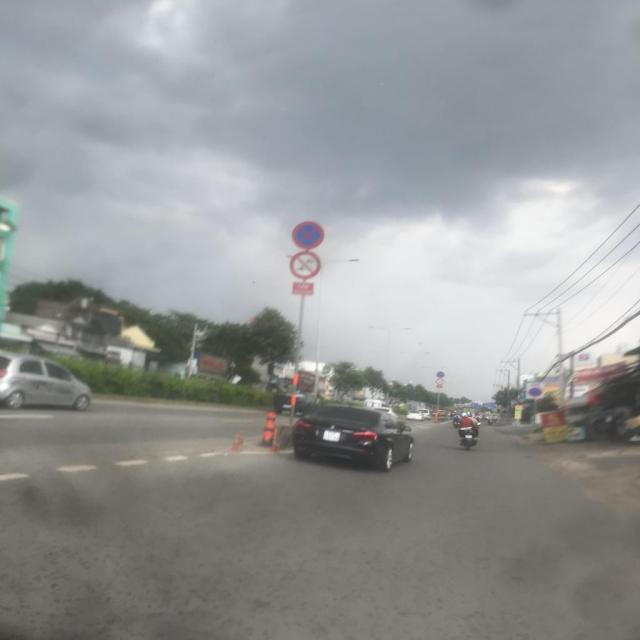cam_dung_xe_va_do_xe: (292, 221, 324, 250), (528, 388, 542, 397), (436, 371, 446, 378)
cam_xe_2_banh_va_xe_3_banh_co_dong_co: (290, 252, 321, 280), (436, 378, 444, 385)
